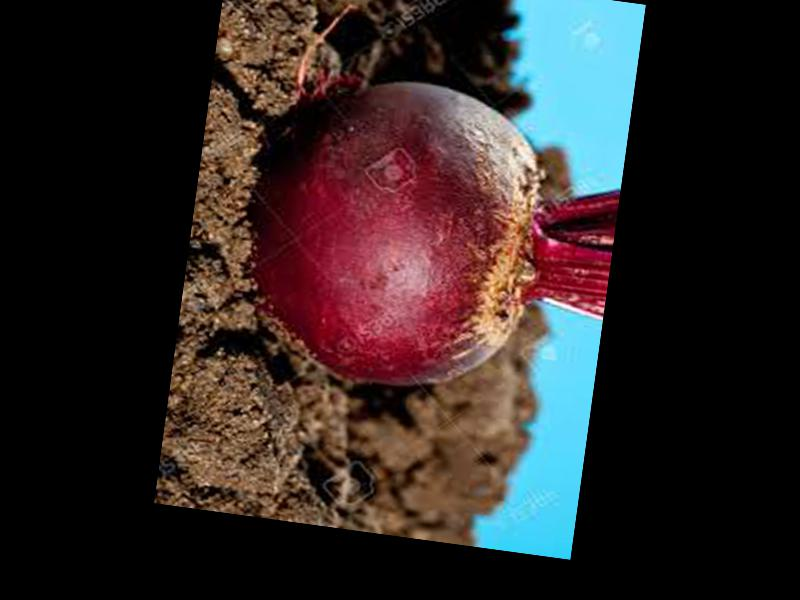Beet: (235, 61, 628, 411)
